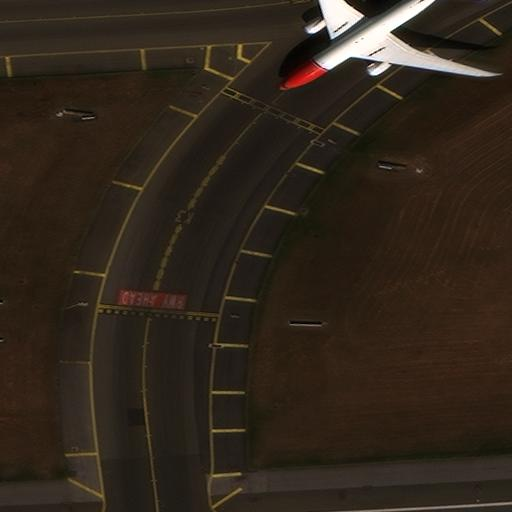Large Civil Transport: (279, 0, 489, 88)
